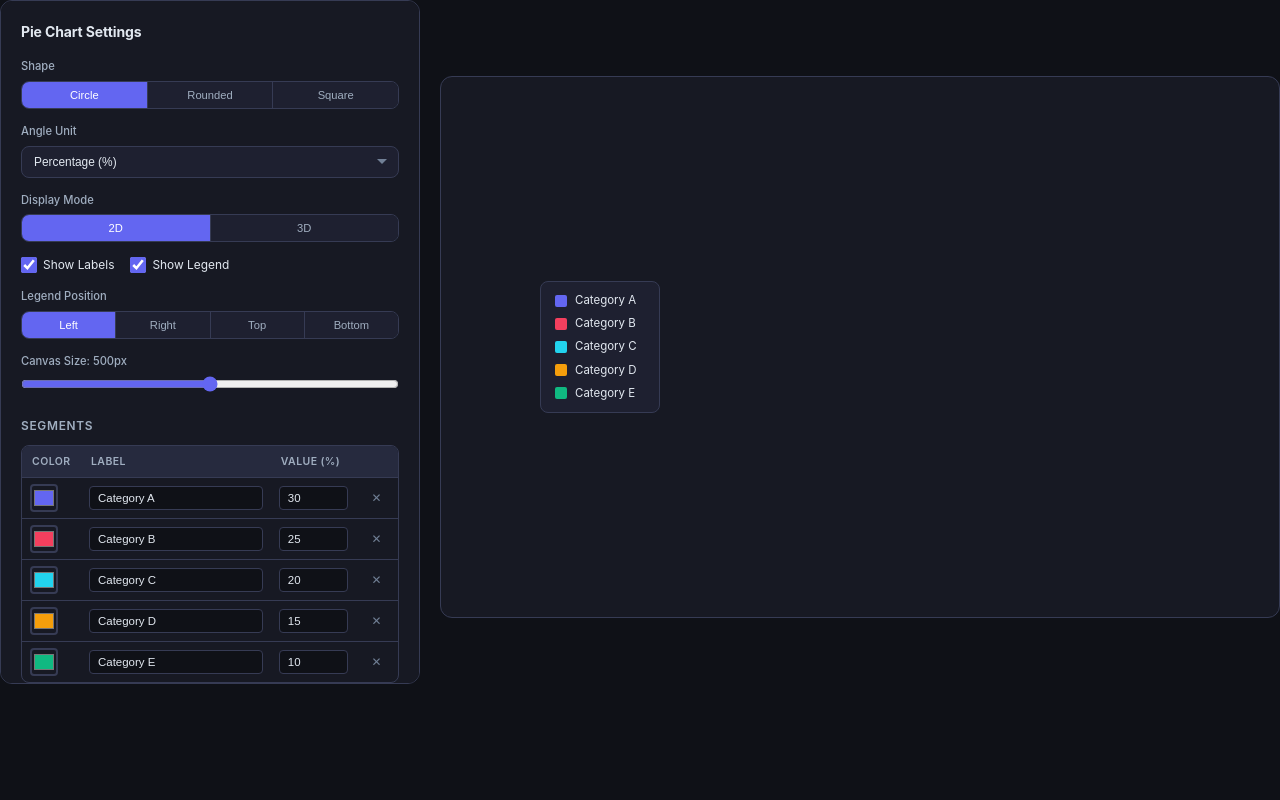
Test: PieCreator › removes a segment when clicking the remove button
Check: the 5th field showing "Category E" is shown, box [89,650,263,674]
Click the 5th button titled "Remove" at (377, 662), box [364,650,390,676]
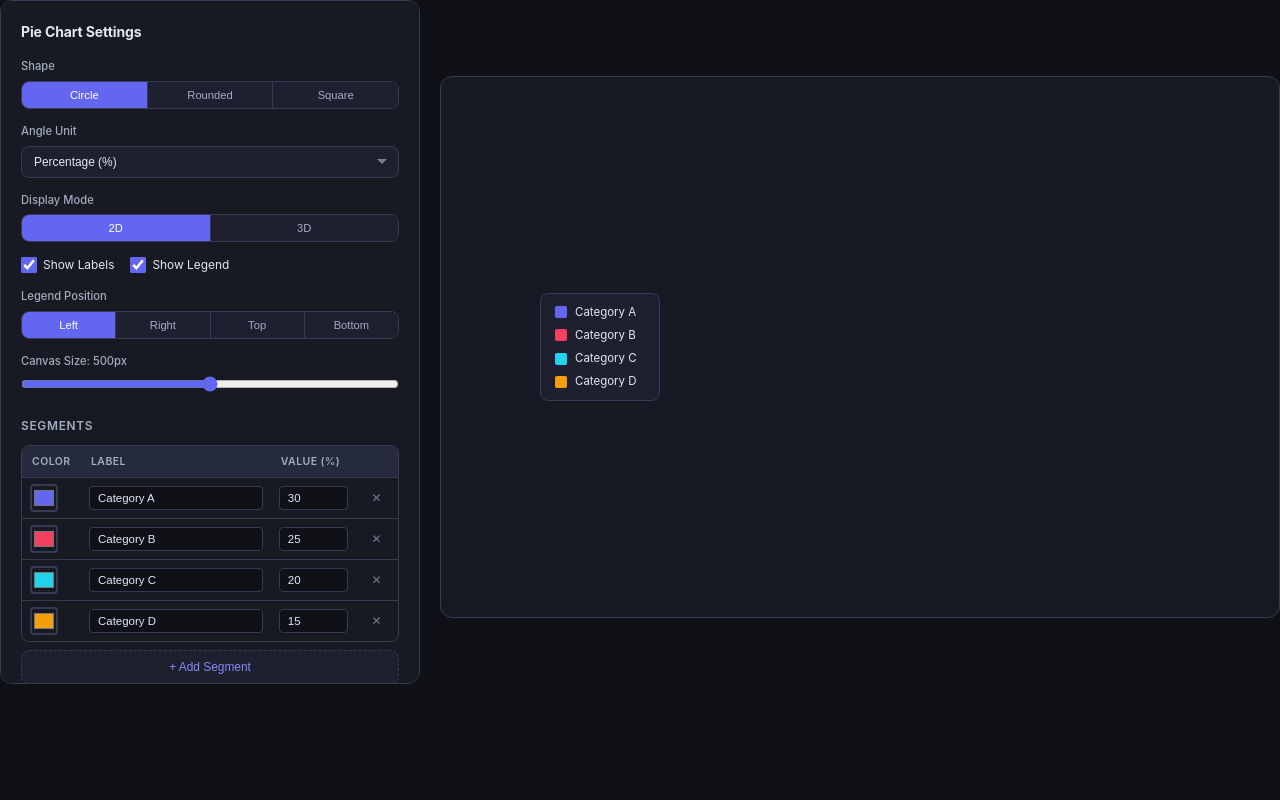
Check: the text showing "Category E" is gone
